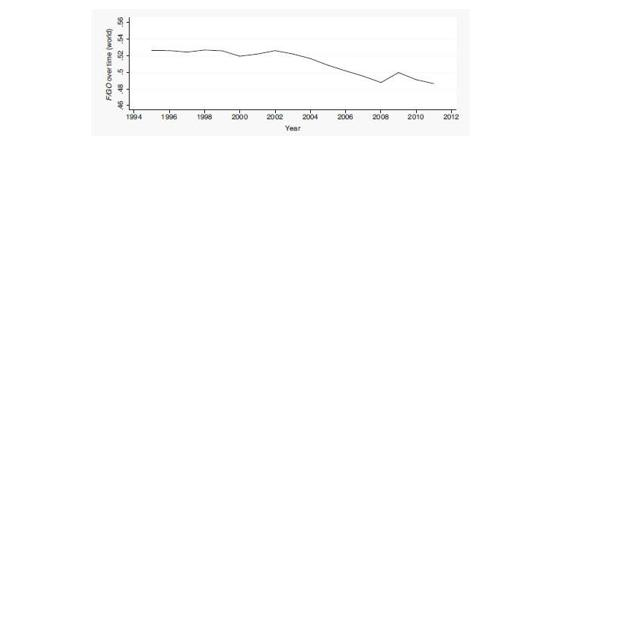Graph: (90, 9, 480, 136)
